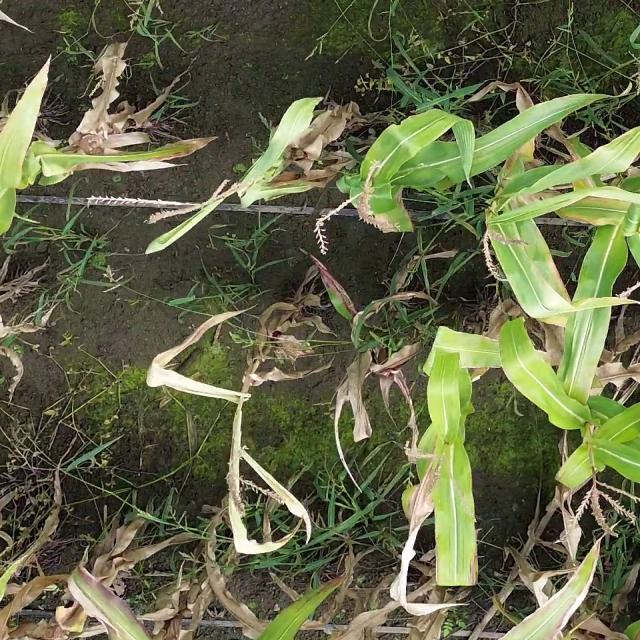northern-leaf-blight: (390, 426, 491, 617), (17, 120, 227, 196), (483, 204, 598, 332)
